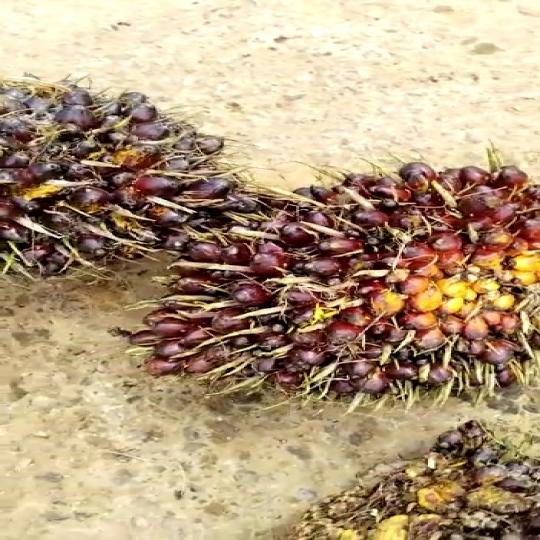kurang masak: (125, 152, 540, 421), (0, 62, 244, 298)
